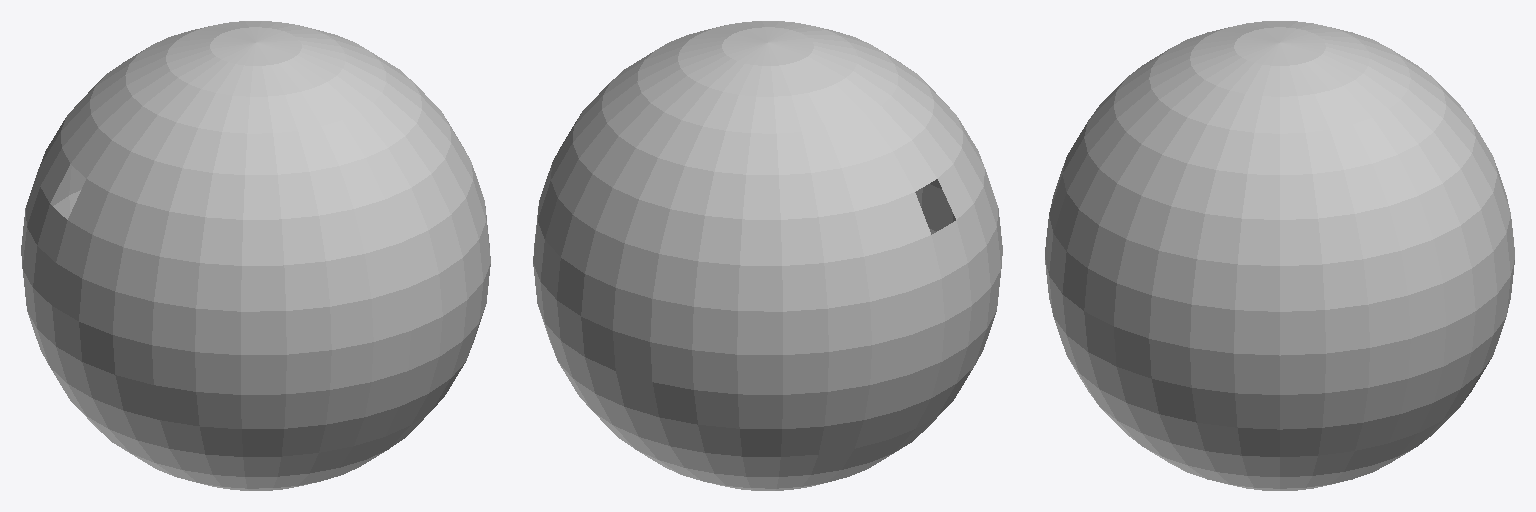
The model's file is dome.obj.
3 views of the same model, side by side, from view 1: azimuth 30°, elevation 25°; view 2: azimuth 150°, elevation 25°; view 3: azimuth 270°, elevation 25° (orthographic).
Parts seen in each view (by area): view 1: Sphere; view 2: Sphere; view 3: Sphere.
Part boxes in pixels (x1,y1,x2,y2): Sphere: (21,21,490,490); Sphere: (533,21,1002,490); Sphere: (1045,21,1514,490).
Bounding box in the file's own units: 1344 × 1344 × 1344.